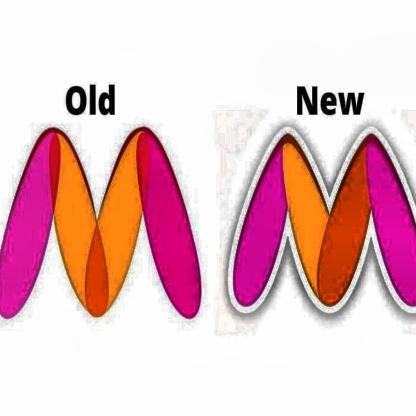Myntra: (2, 126, 203, 319), (229, 123, 416, 310)
